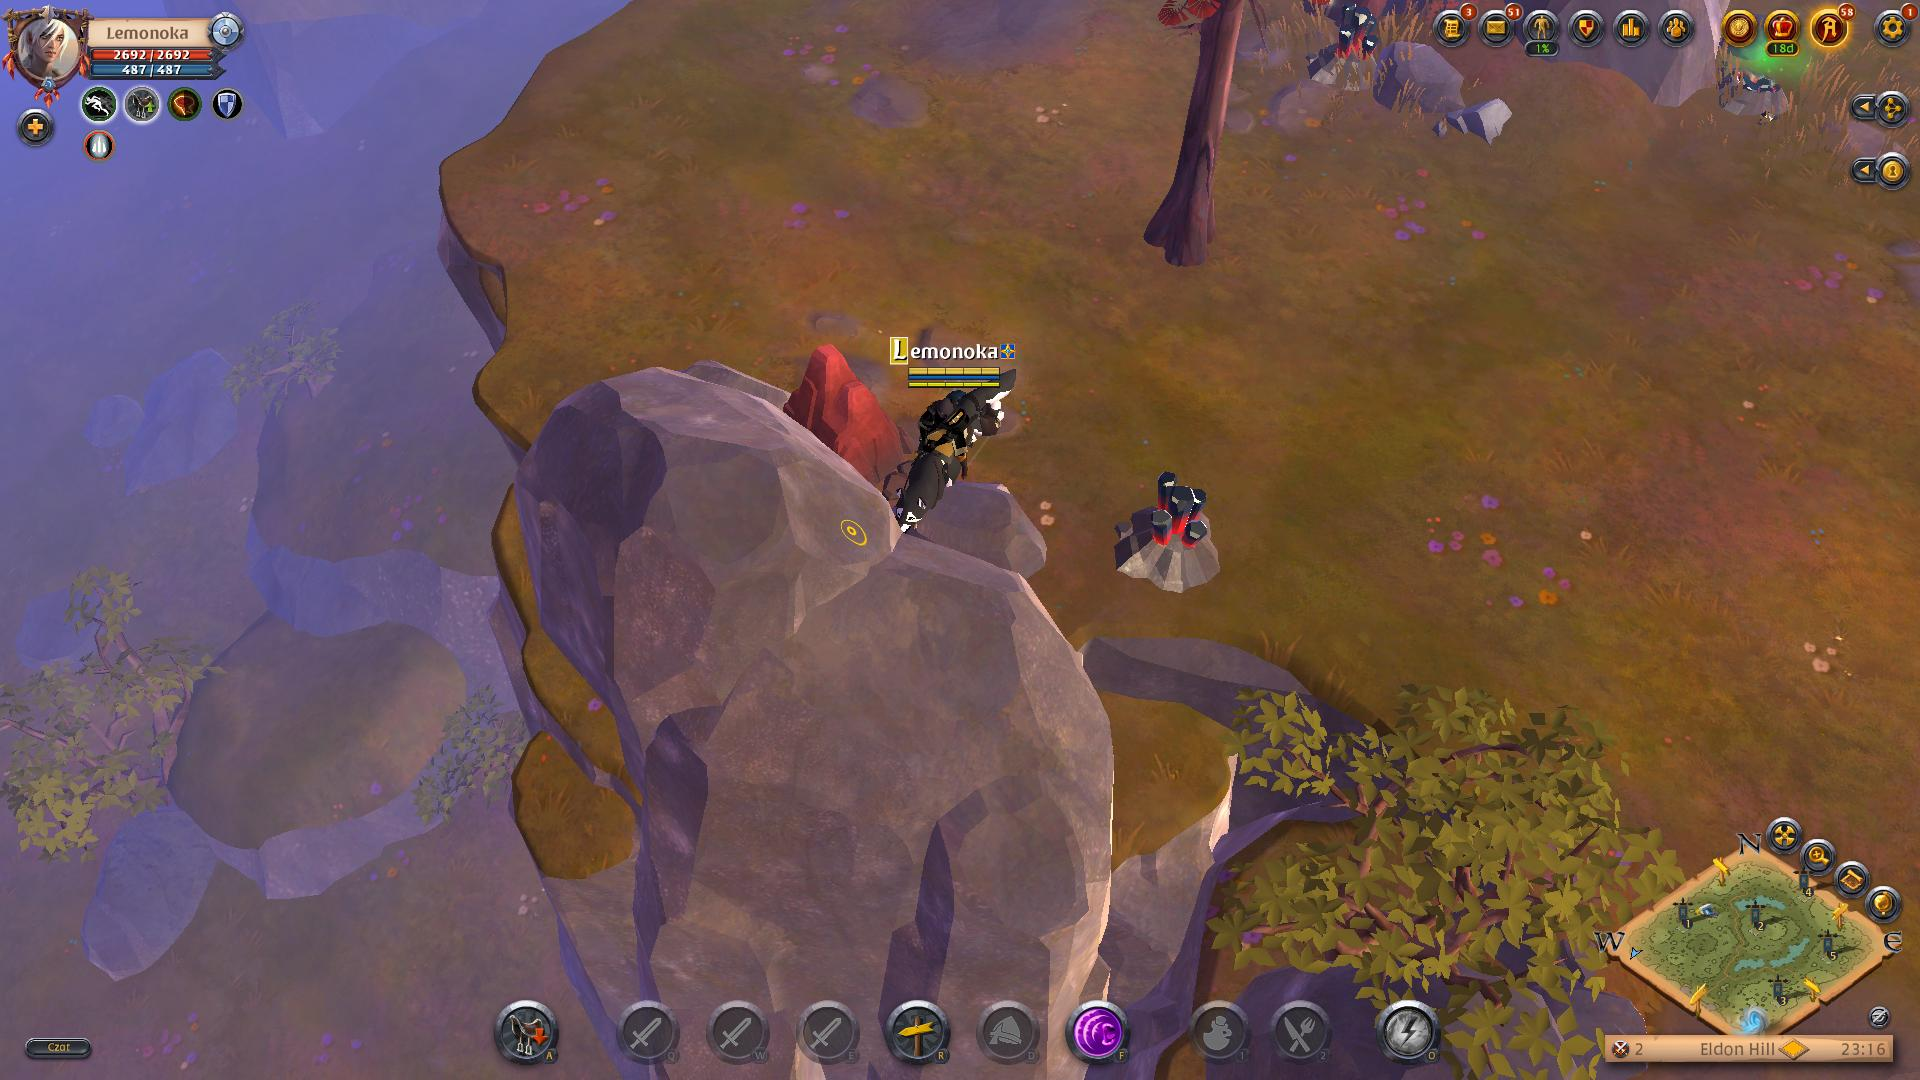ore tier 5: (1110, 465, 1225, 595)
rock tier 5: (782, 342, 903, 505)
